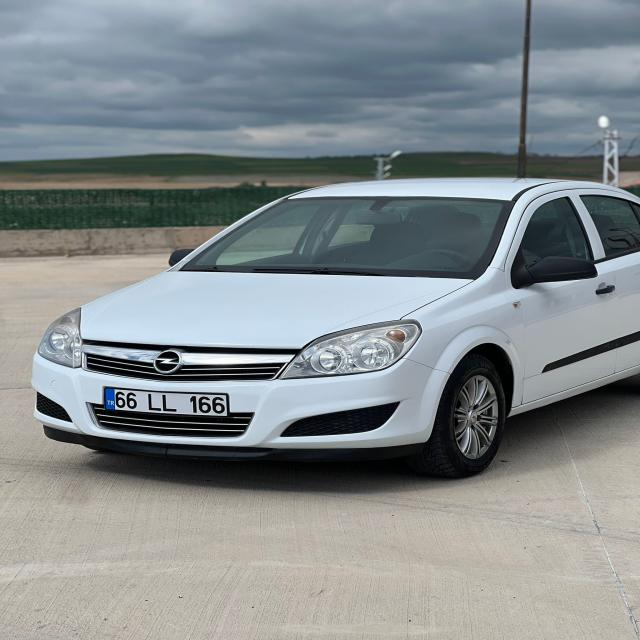opel: (151, 346, 186, 377)
